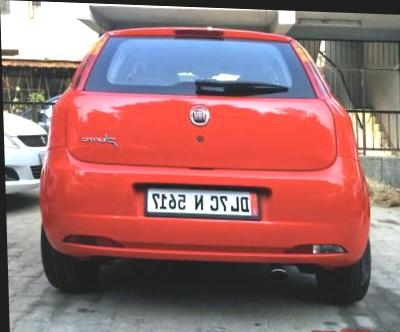License_Plate: (145, 188, 258, 219)
